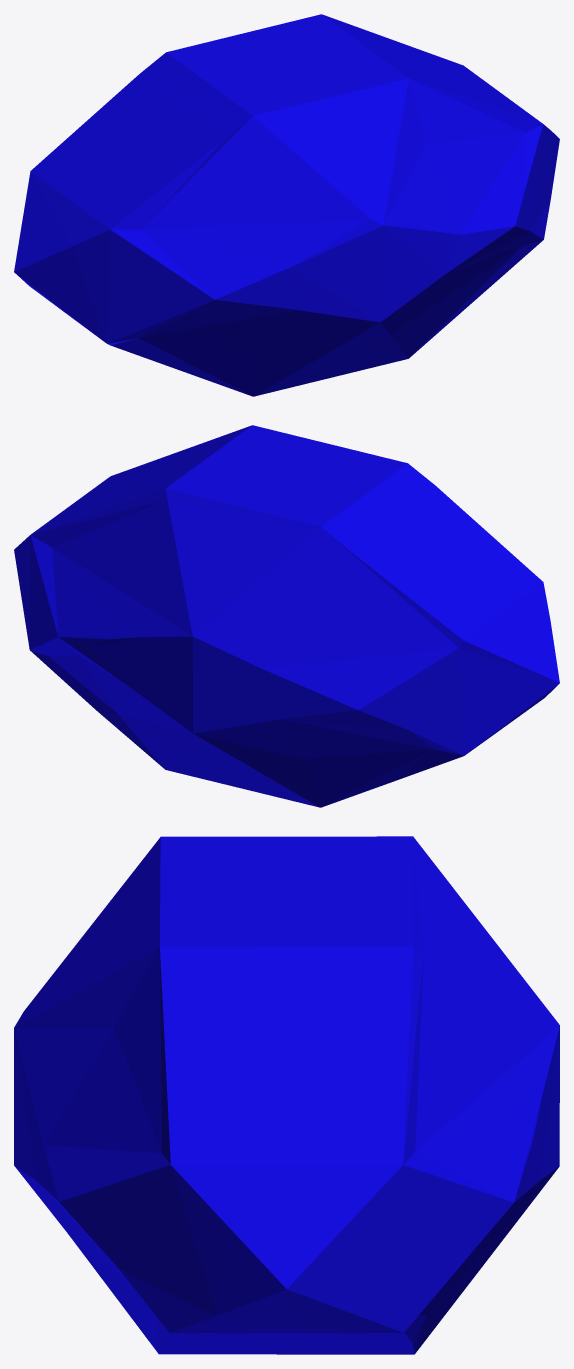
Rendered from meteor_blue_silence_crystal_02.glb.
The picture shows the model from 3 angles, top to bottom: view 1: azimuth 30°, elevation 25°; view 2: azimuth 150°, elevation 25°; view 3: azimuth 270°, elevation 25°; orthographic projection. The views are drawn at different scales.
Parts seen in each view (by area): view 1: Mesh1.016; view 2: Mesh1.016; view 3: Mesh1.016.
Part boxes in pixels (box(x1,y1,x2,y2)): Mesh1.016: box(14, 14, 559, 396); Mesh1.016: box(14, 425, 559, 807); Mesh1.016: box(14, 836, 559, 1354).
Size of the model in its own units: 1.9 by 0.9348 by 1.13.
